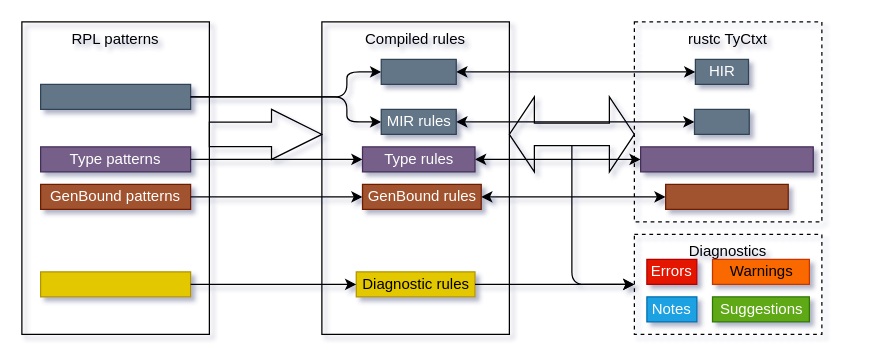
This 876x364 diagram has some shape labels left out. The centre of each missing label's shape, as x and y in pixels:
"AdtDef/TraitDef/FnSig" belongs at [726,159].
"Dataflow patterns" belongs at [115,96].
"Diagnostic patterns" belongs at [115,284].
"Generic bounds" belongs at [726,196].
"HIR rules" belongs at [418,71].
"match" belongs at [571,134].
"MIR" belongs at [721,121].
"RPL parser" belongs at [265,133].
